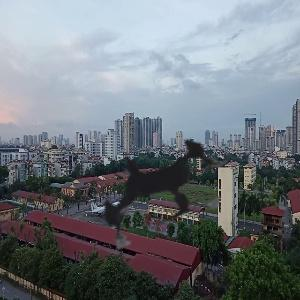drone: (55, 77, 271, 293)
